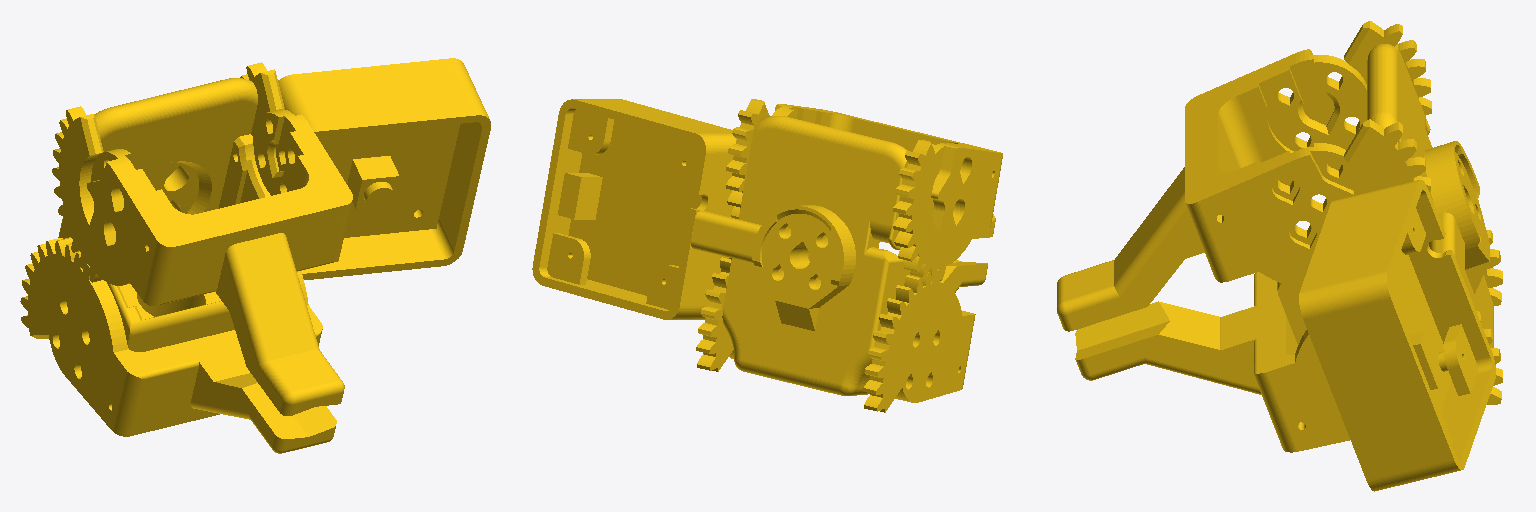
The robot description file, URDF, robot "so_arm100":
<?xml version='1.0' encoding='utf-8'?>
<robot name="so_arm100">
  
  <!-- Materials -->
  <material name="3d_printed">
    <color rgba="1.0 0.82 0.12 1.0"/>
  </material>
  <material name="sts3215">
    <color rgba="0.1 0.1 0.1 1.0"/>
  </material>

  <!-- Link base -->
  <link name="base">
    <inertial>
      <!-- Approximate inertial values -->
      <mass value="1.0"/>
      <origin xyz="0 0 0" rpy="0 0 0"/>
      <inertia ixx="0.01" ixy="0" ixz="0" iyy="0.01" iyz="0" izz="0.01"/>
    </inertial>
    <visual>
      <geometry>
        <mesh filename="assets/Base.stl"/>
      </geometry>
      <material name="3d_printed"/>
    </visual>
    <visual>
      <geometry>
        <mesh filename="assets/Base_Motor.stl"/>
      </geometry>
      <material name="sts3215"/>
    </visual>
    <collision>
      <geometry>
        <mesh filename="assets/Base.stl"/>
      </geometry>
    </collision>
  </link>

  <!-- Link shoulder -->
  <link name="shoulder">
    <inertial>
      <mass value="0.119226"/>
      <origin xyz="-9.07886e-05 0.0590972 0.031089" rpy="0 0 0"/>
      <inertia ixx="5.94278e-05" ixy="0" ixz="0" iyy="5.89975e-05" iyz="0" izz="3.13712e-05"/>
    </inertial>
    <visual>
      <geometry>
        <mesh filename="assets/Rotation_Pitch.stl"/>
      </geometry>
      <material name="3d_printed"/>
    </visual>
    <visual>
      <geometry>
        <mesh filename="assets/Rotation_Pitch_Motor.stl"/>
      </geometry>
      <material name="sts3215"/>
    </visual>
    <collision>
      <geometry>
        <mesh filename="assets/Rotation_Pitch.stl"/>
      </geometry>
    </collision>
  </link>

  <!-- Link upper_arm -->
  <link name="upper_arm">
    <inertial>
      <mass value="0.162409"/>
      <origin xyz="-1.72052e-05 0.0701802 0.00310545" rpy="0 0 0"/>
      <inertia ixx="0.000213312" ixy="0" ixz="0" iyy="0.000167164" iyz="0" izz="7.01522e-05"/>
    </inertial>
    <visual>
      <geometry>
        <mesh filename="assets/Upper_Arm.stl"/>
      </geometry>
      <material name="3d_printed"/>
    </visual>
    <visual>
      <geometry>
        <mesh filename="assets/Upper_Arm_Motor.stl"/>
      </geometry>
      <material name="sts3215"/>
    </visual>
    <collision>
      <geometry>
        <mesh filename="assets/Upper_Arm.stl"/>
      </geometry>
    </collision>
  </link>

  <!-- Link lower_arm -->
  <link name="lower_arm">
    <inertial>
      <mass value="0.147968"/>
      <origin xyz="-0.00339604 0.00137796 0.0768007" rpy="0 0 0"/>
      <inertia ixx="0.000138803" ixy="0" ixz="0" iyy="0.000107748" iyz="0" izz="4.84242e-05"/>
    </inertial>
    <visual>
      <geometry>
        <mesh filename="assets/Lower_Arm.stl"/>
      </geometry>
      <material name="3d_printed"/>
    </visual>
    <visual>
      <geometry>
        <mesh filename="assets/Lower_Arm_Motor.stl"/>
      </geometry>
      <material name="sts3215"/>
    </visual>
    <collision>
      <geometry>
        <mesh filename="assets/Lower_Arm.stl"/>
      </geometry>
    </collision>
  </link>

  <!-- Link wrist -->
  <link name="wrist">
    <inertial>
      <mass value="0.0661321"/>
      <origin xyz="-0.00852653 -0.0352279 -2.34622e-05" rpy="0 0 0"/>
      <inertia ixx="3.45403e-05" ixy="0" ixz="0" iyy="2.39041e-05" iyz="0" izz="1.94704e-05"/>
    </inertial>
    <visual>
      <geometry>
        <mesh filename="assets/Wrist_Pitch_Roll.stl"/>
      </geometry>
      <material name="3d_printed"/>
    </visual>
    <visual>
      <geometry>
        <mesh filename="assets/Wrist_Pitch_Roll_Motor.stl"/>
      </geometry>
      <material name="sts3215"/>
    </visual>
    <collision>
      <geometry>
        <mesh filename="assets/Wrist_Pitch_Roll.stl"/>
      </geometry>
    </collision>
  </link>

  <!-- Link gripper -->
  <link name="gripper">
    <inertial>
      <mass value="0.0929859"/>
      <origin xyz="0.00552377 -0.0280167 0.000483583" rpy="0 0 0"/>
      <inertia ixx="5.03136e-05" ixy="0" ixz="0" iyy="4.64098e-05" iyz="0" izz="2.72961e-05"/>
    </inertial>
    <visual>
      <geometry>
        <mesh filename="assets/Fixed_Jaw_mod_m.stl"/>
      </geometry>
      <material name="3d_printed"/>
    </visual>
    <visual>
      <geometry>
        <mesh filename="assets/Fixed_Jaw_Motor.stl"/>
      </geometry>
      <material name="sts3215"/>
    </visual>
  </link>

    <!-- Link jaw -->
  <link name="jaw_1">
    <inertial>
      <mass value="0.0202444"/>
      <origin xyz="-0.00161745 -0.0303473 0.000449646" rpy="0 0 0"/>
      <inertia ixx="1.11265e-05" ixy="0" ixz="0" iyy="8.99651e-06" iyz="0" izz="2.99548e-06"/>
    </inertial>
    <visual>
      <geometry>
        <mesh filename="assets/Moving_Jaw_1.stl"/>
      </geometry>
      <material name="3d_printed"/>
    </visual>
  </link>

    <!-- Link jaw -->
  <link name="jaw_2">
    <inertial>
      <mass value="0.0202444"/>
      <origin xyz="-0.00161745 -0.0303473 0.000449646" rpy="0 0 0"/>
      <inertia ixx="1.11265e-05" ixy="0" ixz="0" iyy="8.99651e-06" iyz="0" izz="2.99548e-06"/>
    </inertial>
    <visual>
      <geometry>
        <mesh filename="assets/Moving_Jaw_2.stl"/>
      </geometry>
      <material name="3d_printed"/>
    </visual>
  </link>


  <!-- Joint from base to shoulder -->
  <joint name="shoulder_pan" type="revolute">
    <parent link="base"/>
    <child link="shoulder"/>
    <origin xyz="0 -0.0452 0.0165" rpy="1.57079 0 0"/>
    <axis xyz="0 1 0"/>
    <limit lower="-2" upper="2" effort="35" velocity="1"/>
  </joint>

  <transmission name="shoulder_pan_trans">
    <type>transmission_interface/SimpleTransmission</type>
    <joint name="shoulder_pan">
      <hardwareInterface>hardware_interface/PositionJointInterface</hardwareInterface>
    </joint>
    <actuator name="motor1">
      <hardwareInterface>hardware_interface/PositionJointInterface</hardwareInterface>
      <mechanicalReduction>1</mechanicalReduction>
    </actuator>
  </transmission>

  <!-- Joint from shoulder to upper_arm -->
  <joint name="shoulder_lift" type="revolute">
    <parent link="shoulder"/>
    <child link="upper_arm"/>
    <origin xyz="0 0.1025 0.0306" rpy="-1.8 0 0"/>
    <axis xyz="1 0 0"/>
    <limit lower="0" upper="3.5" effort="35" velocity="1"/>
  </joint>

  <transmission name="shoulder_lift_trans">
    <type>transmission_interface/SimpleTransmission</type>
    <joint name="shoulder_lift">
      <hardwareInterface>hardware_interface/PositionJointInterface</hardwareInterface>
    </joint>
    <actuator name="motor2">
      <hardwareInterface>hardware_interface/PositionJointInterface</hardwareInterface>
      <mechanicalReduction>1</mechanicalReduction>
    </actuator>
  </transmission>

  <!-- Joint from upper_arm to lower_arm -->
  <joint name="elbow_flex" type="revolute">
    <parent link="upper_arm"/>
    <child link="lower_arm"/>
    <origin xyz="0 0.11257 0.028" rpy="1.57079 0 0"/>
    <axis xyz="1 0 0"/>
    <limit lower="-3.14158" upper="0" effort="35" velocity="1"/>
  </joint>

  <transmission name="elbow_flex_trans">
    <type>transmission_interface/SimpleTransmission</type>
    <joint name="elbow_flex">
      <hardwareInterface>hardware_interface/PositionJointInterface</hardwareInterface>
    </joint>
    <actuator name="motor3">
      <hardwareInterface>hardware_interface/PositionJointInterface</hardwareInterface>
      <mechanicalReduction>1</mechanicalReduction>
    </actuator>
  </transmission>

  <!-- Joint from lower_arm to wrist -->
  <joint name="wrist_flex" type="revolute">
    <parent link="lower_arm"/>
    <child link="wrist"/>
    <origin xyz="0 0.0052 0.1349" rpy="-1 0 0"/>
    <axis xyz="1 0 0"/>
    <limit lower="-2.5" upper="1.2" effort="35" velocity="1"/>
  </joint>

  <transmission name="wrist_flex_trans">
    <type>transmission_interface/SimpleTransmission</type>
    <joint name="wrist_flex">
      <hardwareInterface>hardware_interface/PositionJointInterface</hardwareInterface>
    </joint>
    <actuator name="motor4">
      <hardwareInterface>hardware_interface/PositionJointInterface</hardwareInterface>
      <mechanicalReduction>1</mechanicalReduction>
    </actuator>
  </transmission>

  <!-- Joint from wrist to gripper -->
  <joint name="wrist_roll" type="revolute">
    <parent link="wrist"/>
    <child link="gripper"/>
    <origin xyz="0 -0.0601 0" rpy="0 1.57079 0"/>
    <axis xyz="0 1 0"/>
    <limit lower="-3.14158" upper="3.14158" effort="35" velocity="1"/>
  </joint>

  <transmission name="wrist_roll_trans">
    <type>transmission_interface/SimpleTransmission</type>
    <joint name="wrist_roll">
      <hardwareInterface>hardware_interface/PositionJointInterface</hardwareInterface>
    </joint>
    <actuator name="motor5">
      <hardwareInterface>hardware_interface/PositionJointInterface</hardwareInterface>
      <mechanicalReduction>1</mechanicalReduction>
    </actuator>
  </transmission>

<!-- Master: actuated -->
<joint name="jaw1_hinge" type="revolute">
  <parent link="gripper"/>
  <child link="jaw_1"/>
  <origin xyz="-0.0202 -0.0244 0" rpy="0 3.14159 0"/>
  <axis xyz="0 0 1"/>
  <limit lower="-0.6" upper="0.6" effort="35" velocity="2.0"/>
</joint>

<transmission name="jaw1_trans">
  <type>transmission_interface/SimpleTransmission</type>
  <joint name="jaw1_hinge">
    <hardwareInterface>hardware_interface/PositionJointInterface</hardwareInterface>
  </joint>
  <actuator name="motor6">
    <hardwareInterface>hardware_interface/PositionJointInterface</hardwareInterface>
    <mechanicalReduction>1.0</mechanicalReduction>
  </actuator>
</transmission>

<!-- Follower: unactuated; exists only to define kinematics -->
<joint name="jaw2_hinge" type="revolute">
  <parent link="gripper"/>
  <child link="jaw_2"/>
  <origin xyz="0.0202 -0.0244 0" rpy="0 0 0"/>
  <axis xyz="0 0 -1"/>
  <limit lower="-0.6" upper="0.6" effort="35" velocity="2.0"/>
  <mimic joint="jaw1_hinge" multiplier="-1.0" offset="0.0"/>
</joint>


</robot> 

--- What the picture shows (computed from the rendered views, not written in the file) ---
The picture shows the robot from 3 angles, left to right: view 1: azimuth 30°, elevation 25°; view 2: azimuth 150°, elevation 25°; view 3: azimuth 270°, elevation 25°; orthographic projection.
Model so_arm100 with 8 links and 7 joints (7 revolute), rooted at base, posed all joints at 0.
Visible links, largest first — view 1: gripper, jaw_1, jaw_2; view 2: gripper, jaw_1, jaw_2; view 3: gripper, jaw_1, jaw_2.
Boxes of the visible links, x1=… form: gripper: x1=58, y1=58, x2=490, y2=351; jaw_1: x1=52, y1=62, x2=352, y2=415; jaw_2: x1=20, y1=237, x2=336, y2=453; gripper: x1=532, y1=99, x2=911, y2=395; jaw_1: x1=726, y1=99, x2=1002, y2=280; jaw_2: x1=696, y1=257, x2=987, y2=412; gripper: x1=1277, y1=44, x2=1495, y2=491; jaw_1: x1=1057, y1=21, x2=1431, y2=331; jaw_2: x1=1075, y1=230, x2=1502, y2=452.
Size in the robot's own frame: 0.097 by 0.0851 by 0.0691 metres.
Meshes: 14 distinct files referenced, 3 mesh visuals loaded (3 binary STL); not drawn: 11 (reference not matched to a file when rendering).